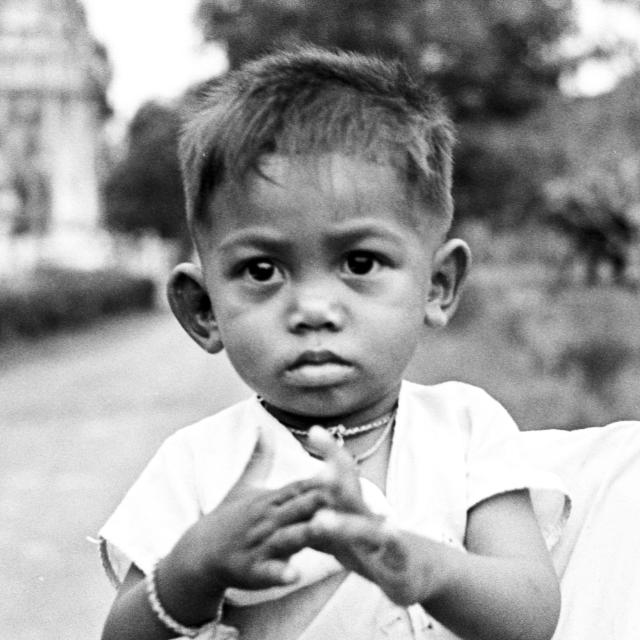no-glass: (222, 248, 398, 283)
